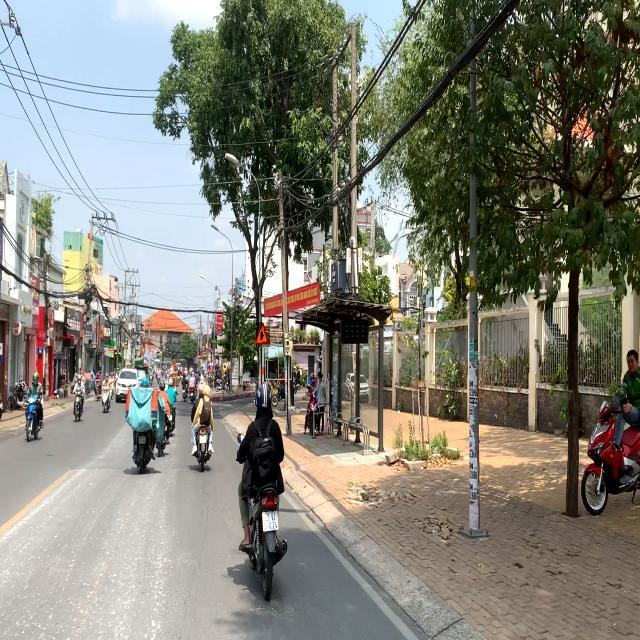W-207b: (256, 322, 270, 347)
